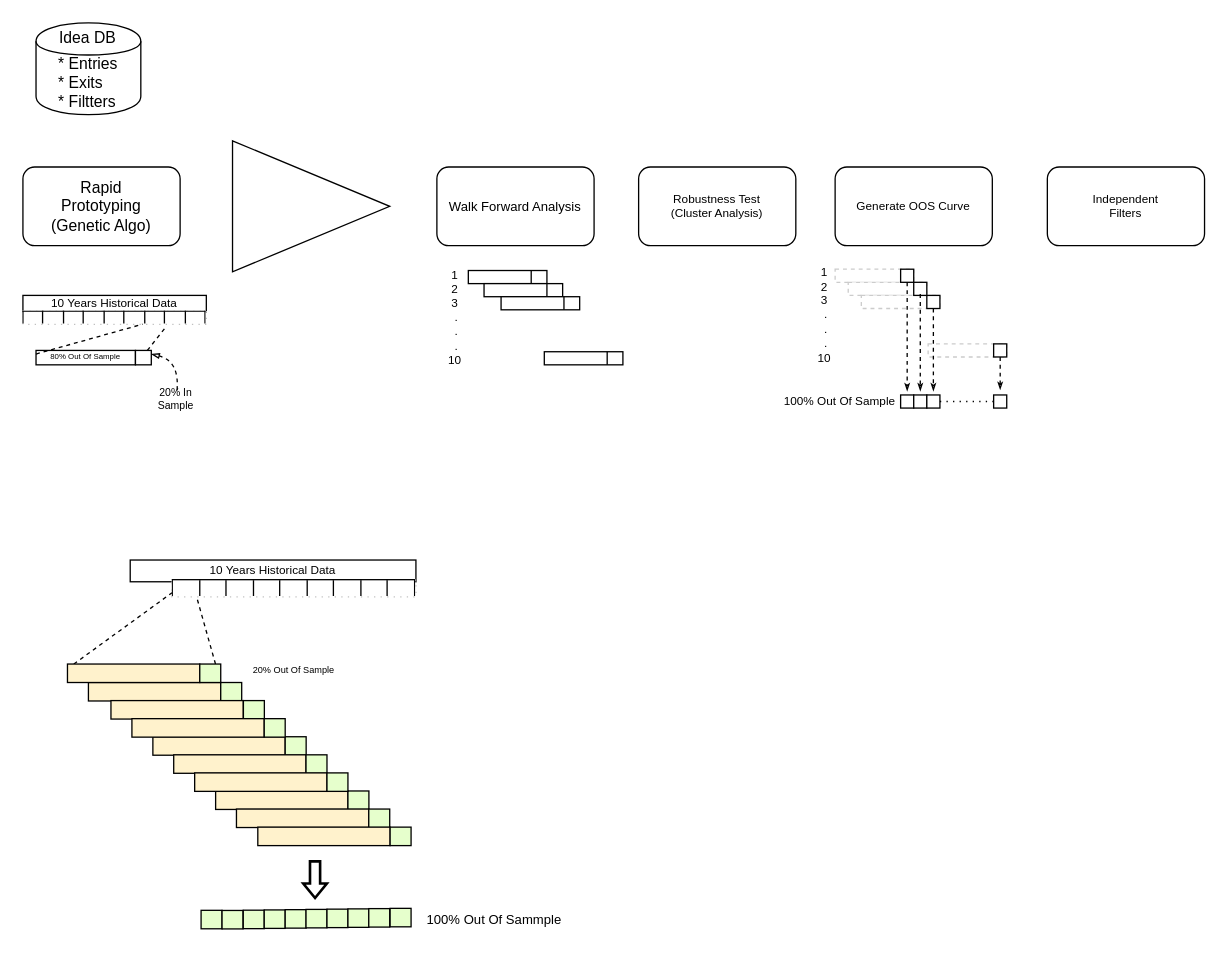
This 1227x958 diagram has some shape labels left out. Each missing label, with the centre of its shape:
80% In Sample: point 133,673
In-Sample Out Of Sample: point 310,206
